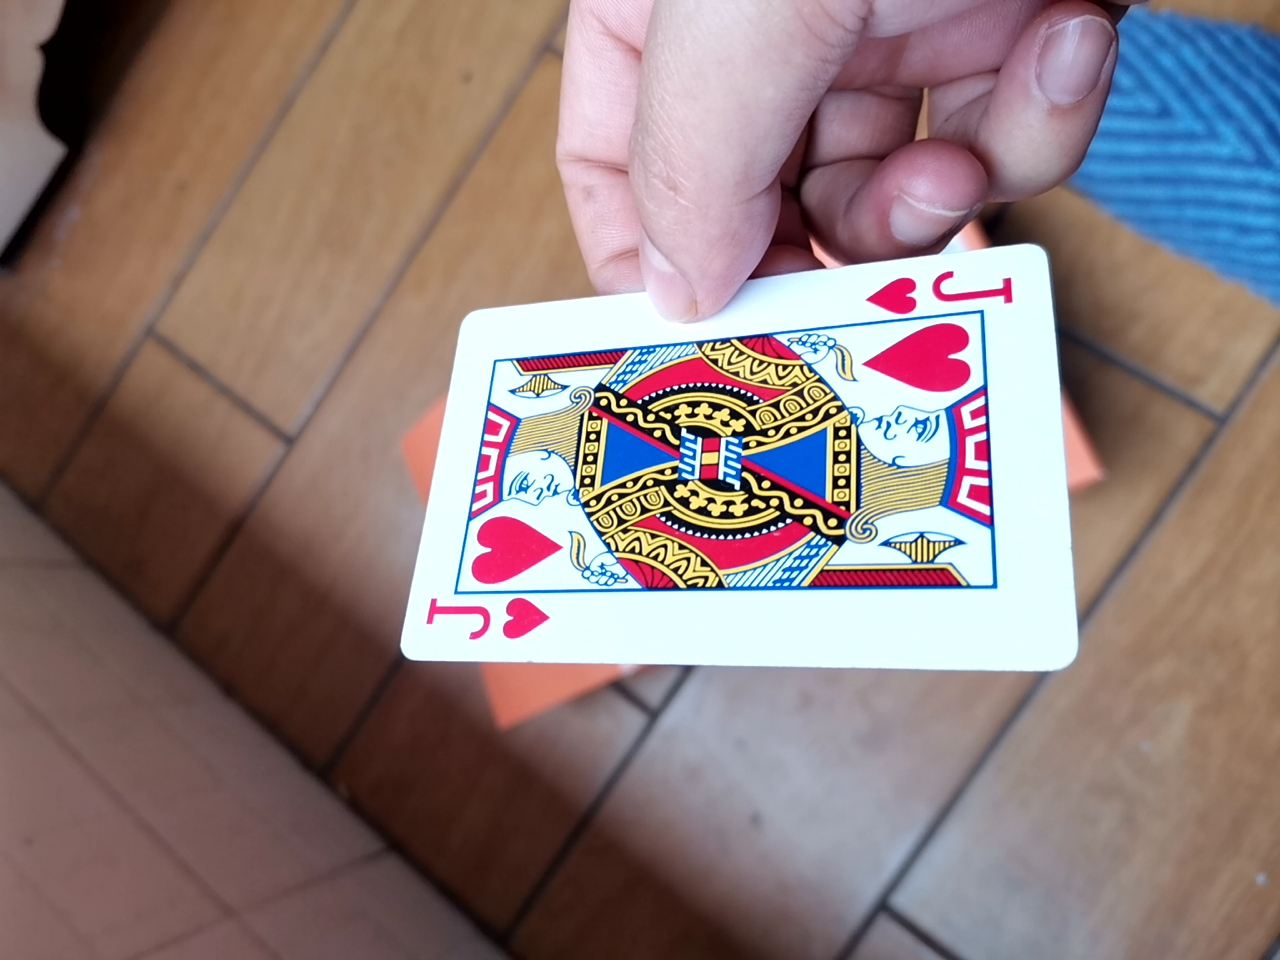hx j: (369, 240, 1093, 691)
